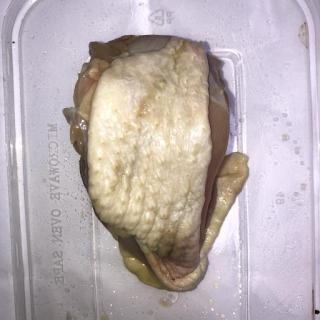Ayam: (62, 35, 250, 293)
